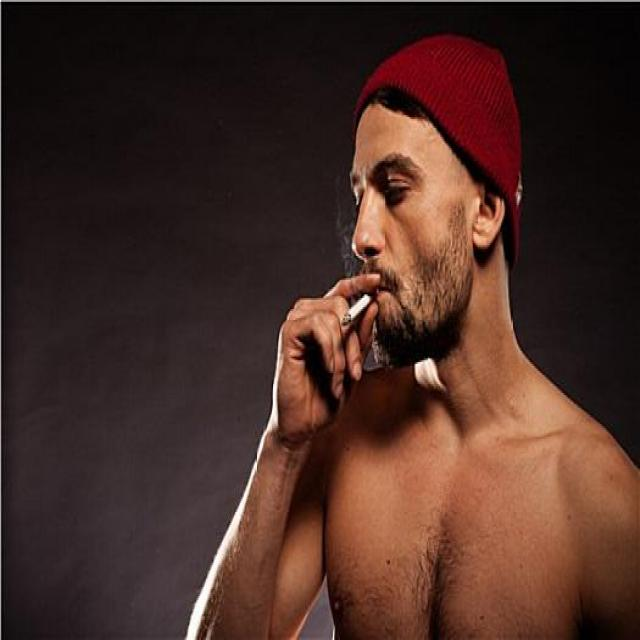smoke: (342, 292, 376, 330)
